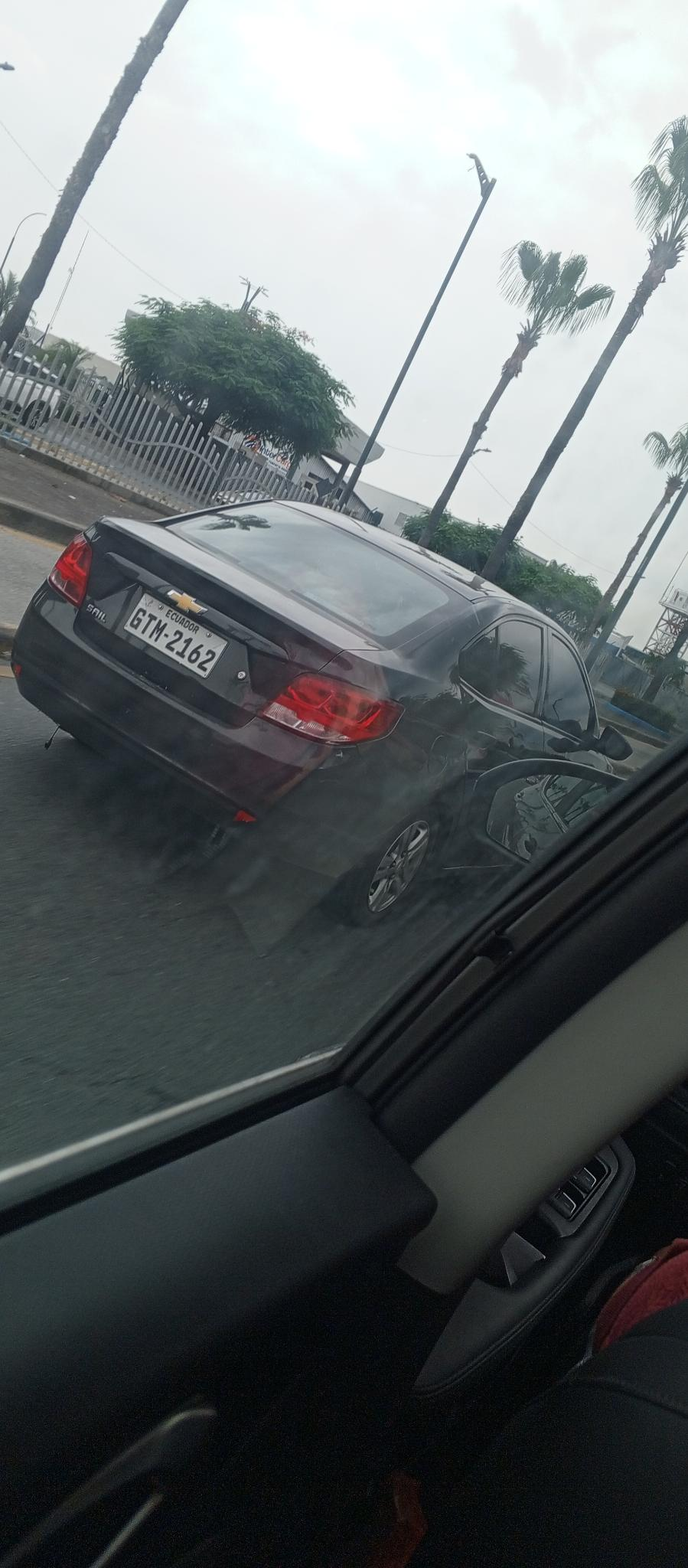license_plate: (117, 590, 229, 681)
